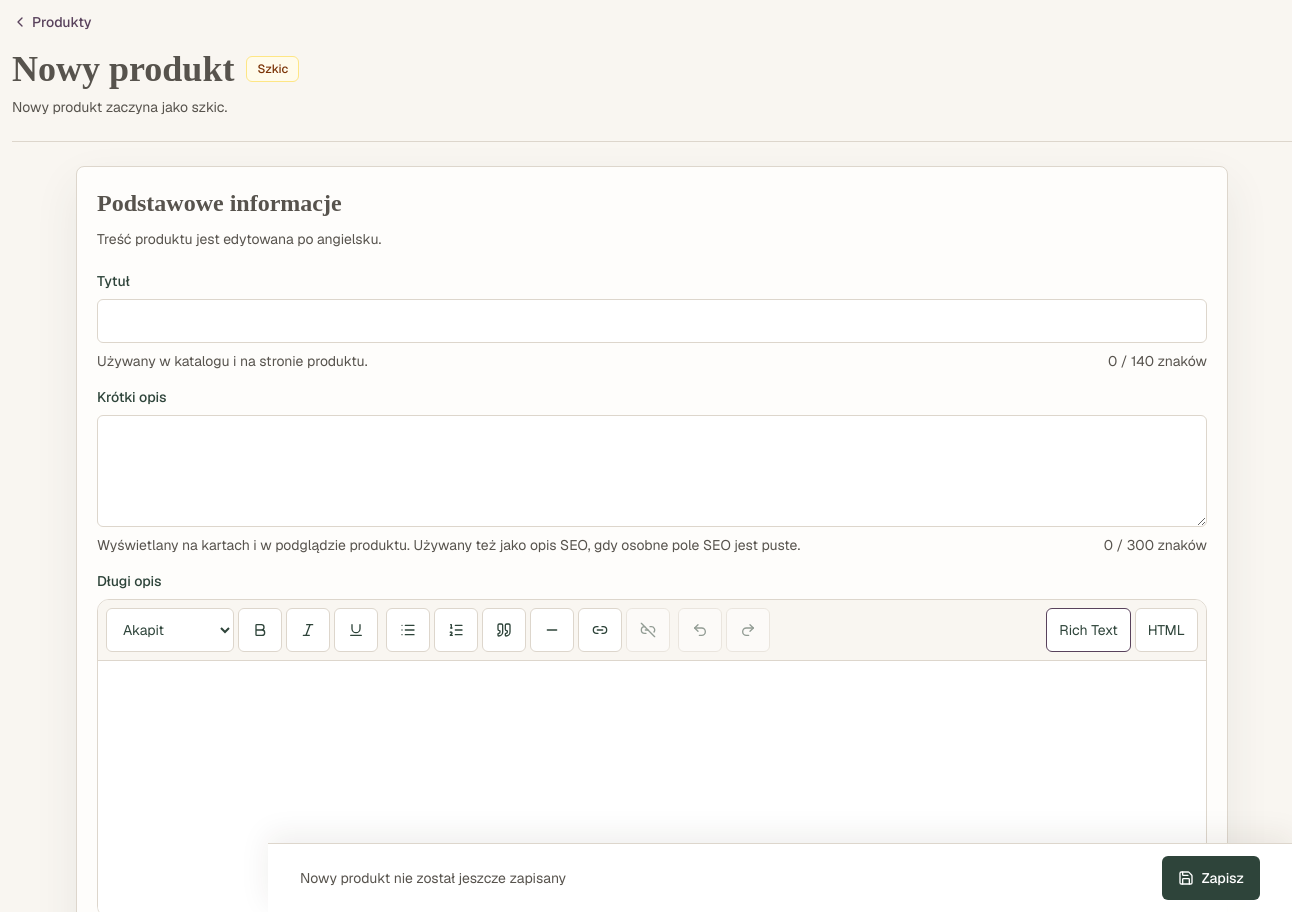
Test: ProductEditor V2 › clears a title-required summary after the missing title is corrected
The width and height of the screenshot is (1292, 912).
Click the button "Zapisz".
click(1211, 878)  # box [1162,856,1260,900]
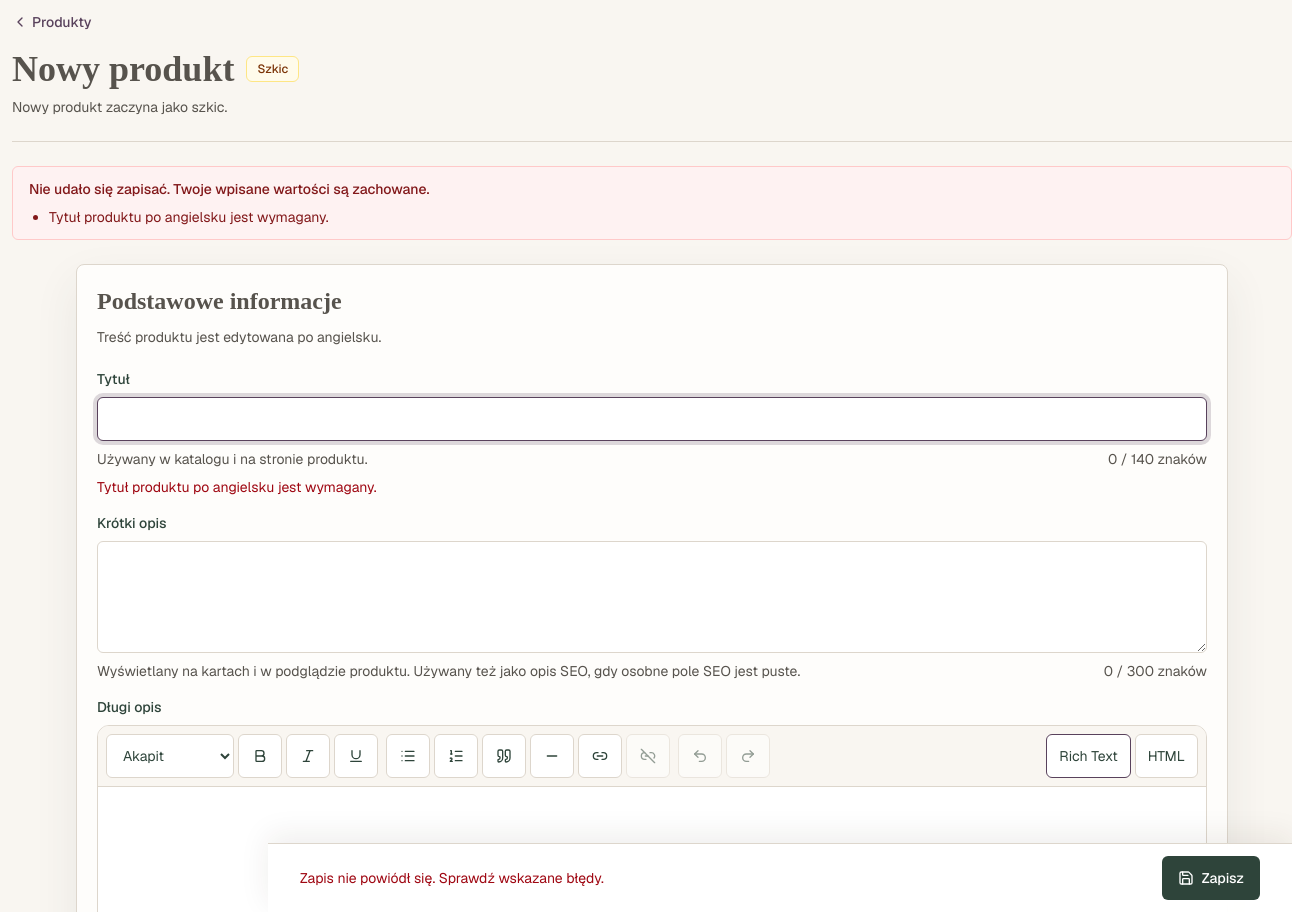
Check: the text "Nie udało się zapisać. Twoje wpisane wartości są zachowane." is shown, box [29,180,429,198]
Type "Nowy tytuł" into the field labelled "Tytuł".
click(652, 419); type("Nowy tytuł")  # box [97,397,1207,441]
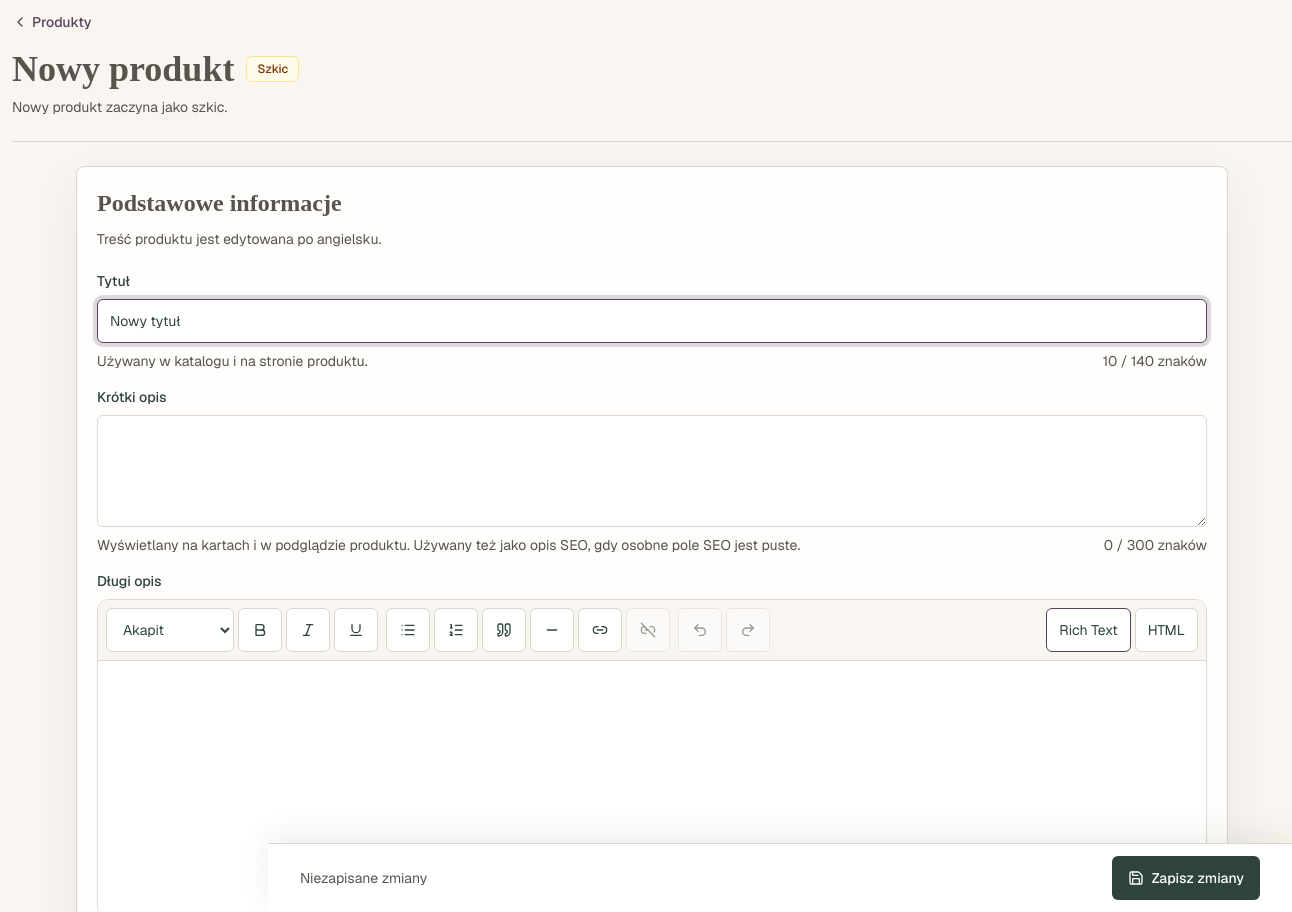
Check: the text "Nie udało się zapisać. Twoje wpisane wartości są zachowane." is gone
